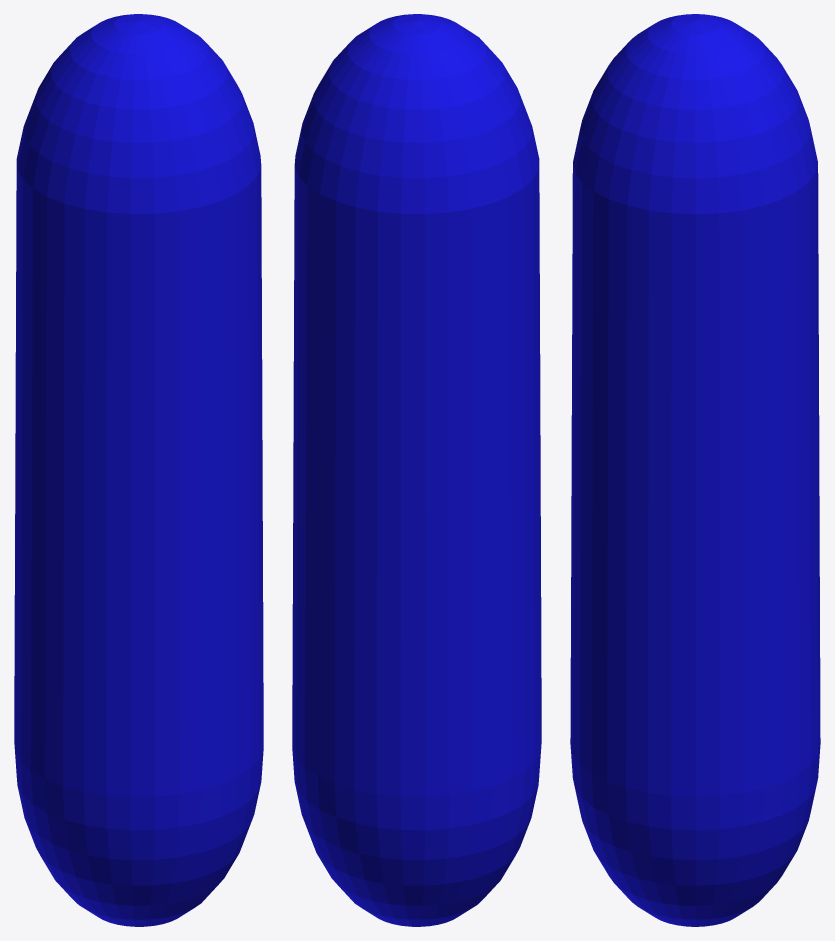
File: body.fbx
The picture shows the model from 3 angles, left to right: view 1: azimuth 30°, elevation 25°; view 2: azimuth 150°, elevation 25°; view 3: azimuth 270°, elevation 25°; orthographic projection.
Visible parts, largest first — view 1: ChelBody; view 2: ChelBody; view 3: ChelBody.
Boxes of the visible parts, <box> form: ChelBody: <box>14,14,263,926</box>; ChelBody: <box>292,14,541,926</box>; ChelBody: <box>570,14,820,926</box>.
Bounding box in the file's own units: 82.79 × 328 × 82.79.
